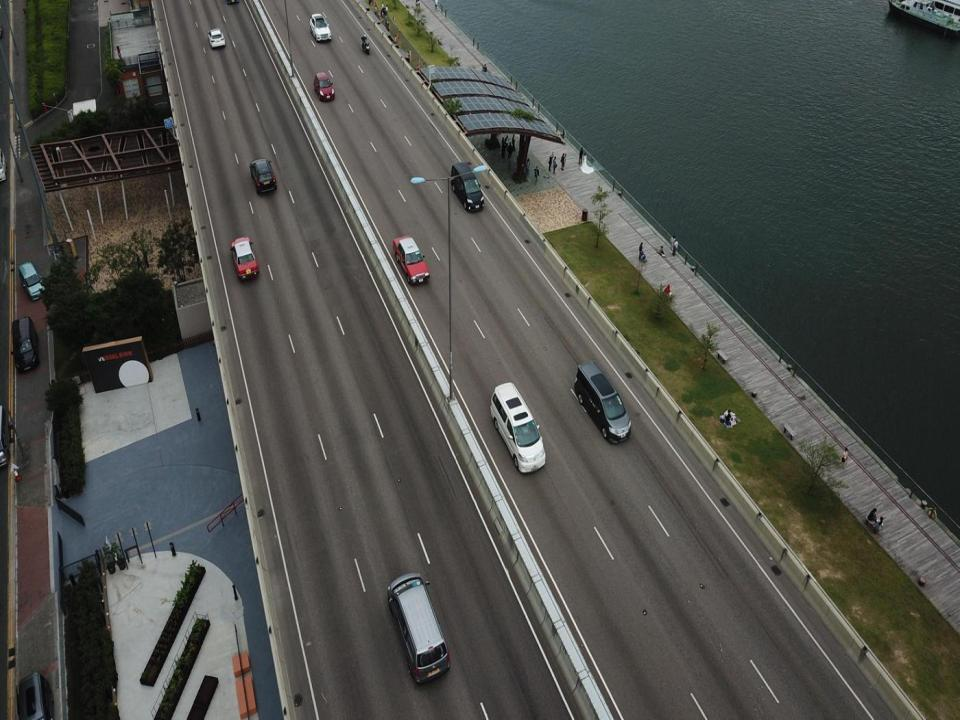car: (489, 381, 546, 476), (573, 361, 632, 444), (392, 233, 430, 287), (450, 162, 485, 213), (229, 235, 260, 282), (16, 260, 46, 302), (249, 158, 276, 198), (312, 71, 335, 102), (308, 14, 332, 43), (206, 25, 224, 50)
van: (388, 572, 450, 684), (11, 315, 39, 376)
